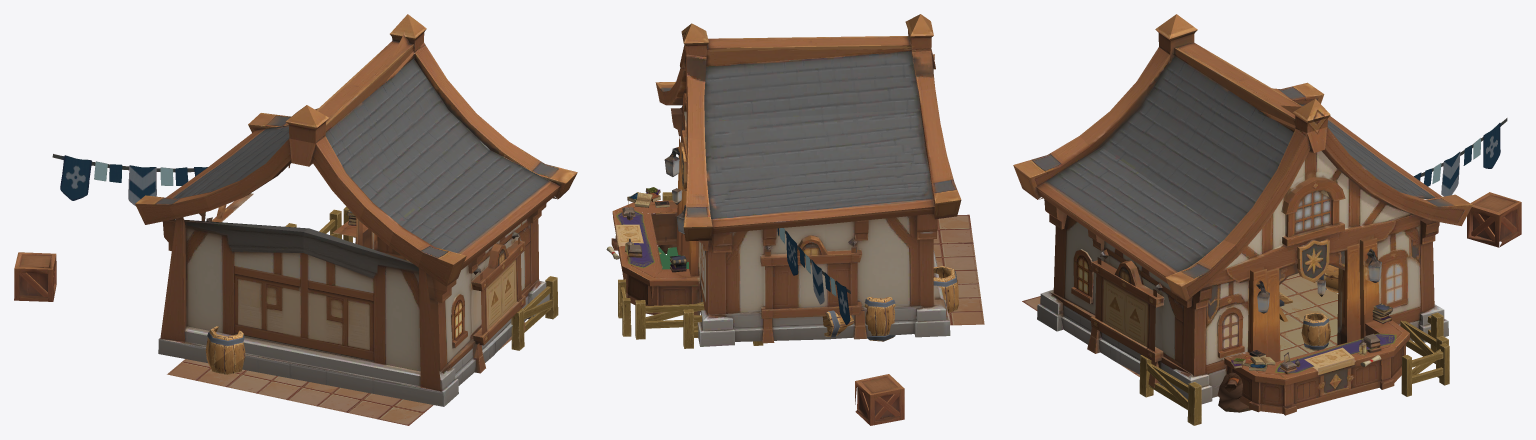
File: MainCityDecor_QuestBoard_Town.glb
3 renders of one model, left to right at view 1: azimuth 30°, elevation 25°; view 2: azimuth 150°, elevation 25°; view 3: azimuth 270°, elevation 25°, orthographic. The views are drawn at different scales.
Parts seen in each view (by area): view 1: EnvMaicity_Detail__Union__un959306485107219031, EnvMaincity_Detail__UnionGround__u2583589820628313513, EnvCampsite_Detail__Bunting__2__un6844926996659198551, EnvCampsite_Detail__Box__1_6__un1658084059483167319, EnvCampsite_Detail__Cask__2_2__un3584871765496453719; view 2: EnvMaicity_Detail__Union__un959306485107219031, EnvMaincity_Detail__UnionGround__u2583589820628313513, EnvCampsite_Detail__Box__1_6__un1658084059483167319, EnvCampsite_Detail__Bunting__2__un6844926996659198551, EnvCampsite_Detail__Cask__2_4__un8754653291036039767, EnvCampsite_Detail__Cask__2_2__un3584871765496453719, EnvCampsite_Detail__Rug__1__u758430451914614185, EnvCampsite_Detail__Book__4__u5068827640590149033, EnvCampsite_Detail__Cask__2_5__un3374015610522524247, EnvCampsite_Detail__Batten_3__u7359800780970960297, EnvCampsite_Detail__Batten_3__un4976295568312916567, EnvCampsite_Detail__Batten__u4498160331946042793 (+1 smaller); view 3: EnvMaicity_Detail__Union__un959306485107219031, EnvMaincity_Detail__UnionGround__u2583589820628313513, EnvCampsite_Detail__Box__1_6__un1658084059483167319, EnvCampsite_Detail__Bunting__2__un6844926996659198551, EnvCampsite_Detail__Cask__2__un4319250761657899607, EnvCampsite_Detail__Sack__1__un6686972717187357271, EnvCampsite_Detail__Rug__1__u758430451914614185, EnvCampsite_Detail__Batten_3__u8292874060709864873, EnvCampsite_Detail__Book__4__u5068827640590149033.
Boxes of the visible parts, box(x1,y1,x2,y2) form: EnvMaicity_Detail__Union__un959306485107219031: box(135, 14, 577, 406); EnvMaincity_Detail__UnionGround__u2583589820628313513: box(167, 322, 524, 425); EnvCampsite_Detail__Bunting__2__un6844926996659198551: box(52, 154, 207, 205); EnvCampsite_Detail__Box__1_6__un1658084059483167319: box(14, 252, 56, 301); EnvCampsite_Detail__Cask__2_2__un3584871765496453719: box(205, 326, 245, 374); EnvMaicity_Detail__Union__un959306485107219031: box(611, 14, 961, 346); EnvMaincity_Detail__UnionGround__u2583589820628313513: box(933, 214, 984, 325); EnvCampsite_Detail__Box__1_6__un1658084059483167319: box(855, 374, 904, 425); EnvCampsite_Detail__Bunting__2__un6844926996659198551: box(777, 228, 850, 325); EnvCampsite_Detail__Cask__2_4__un8754653291036039767: box(864, 297, 895, 341); EnvCampsite_Detail__Cask__2_2__un3584871765496453719: box(933, 266, 958, 313); EnvCampsite_Detail__Rug__1__u758430451914614185: box(616, 210, 654, 268); EnvCampsite_Detail__Book__4__u5068827640590149033: box(627, 187, 669, 207); EnvCampsite_Detail__Cask__2_5__un3374015610522524247: box(822, 310, 854, 337); EnvCampsite_Detail__Batten_3__u7359800780970960297: box(635, 300, 645, 339); EnvCampsite_Detail__Batten_3__un4976295568312916567: box(683, 309, 693, 348); EnvCampsite_Detail__Batten__u4498160331946042793: box(645, 304, 704, 312); EnvMaicity_Detail__Union__un959306485107219031: box(1013, 14, 1472, 415); EnvMaincity_Detail__UnionGround__u2583589820628313513: box(1022, 265, 1338, 376); EnvCampsite_Detail__Box__1_6__un1658084059483167319: box(1467, 192, 1521, 247); EnvCampsite_Detail__Bunting__2__un6844926996659198551: box(1414, 118, 1507, 196); EnvCampsite_Detail__Cask__2__un4319250761657899607: box(1301, 312, 1330, 350); EnvCampsite_Detail__Sack__1__un6686972717187357271: box(1217, 372, 1251, 412); EnvCampsite_Detail__Rug__1__u758430451914614185: box(1275, 333, 1396, 373); EnvCampsite_Detail__Batten_3__u8292874060709864873: box(1187, 382, 1201, 425); EnvCampsite_Detail__Book__4__u5068827640590149033: box(1231, 350, 1275, 371).
Size of the model in its own units: 8.23 by 5.35 by 8.71.
12 materials, 12 textured.
